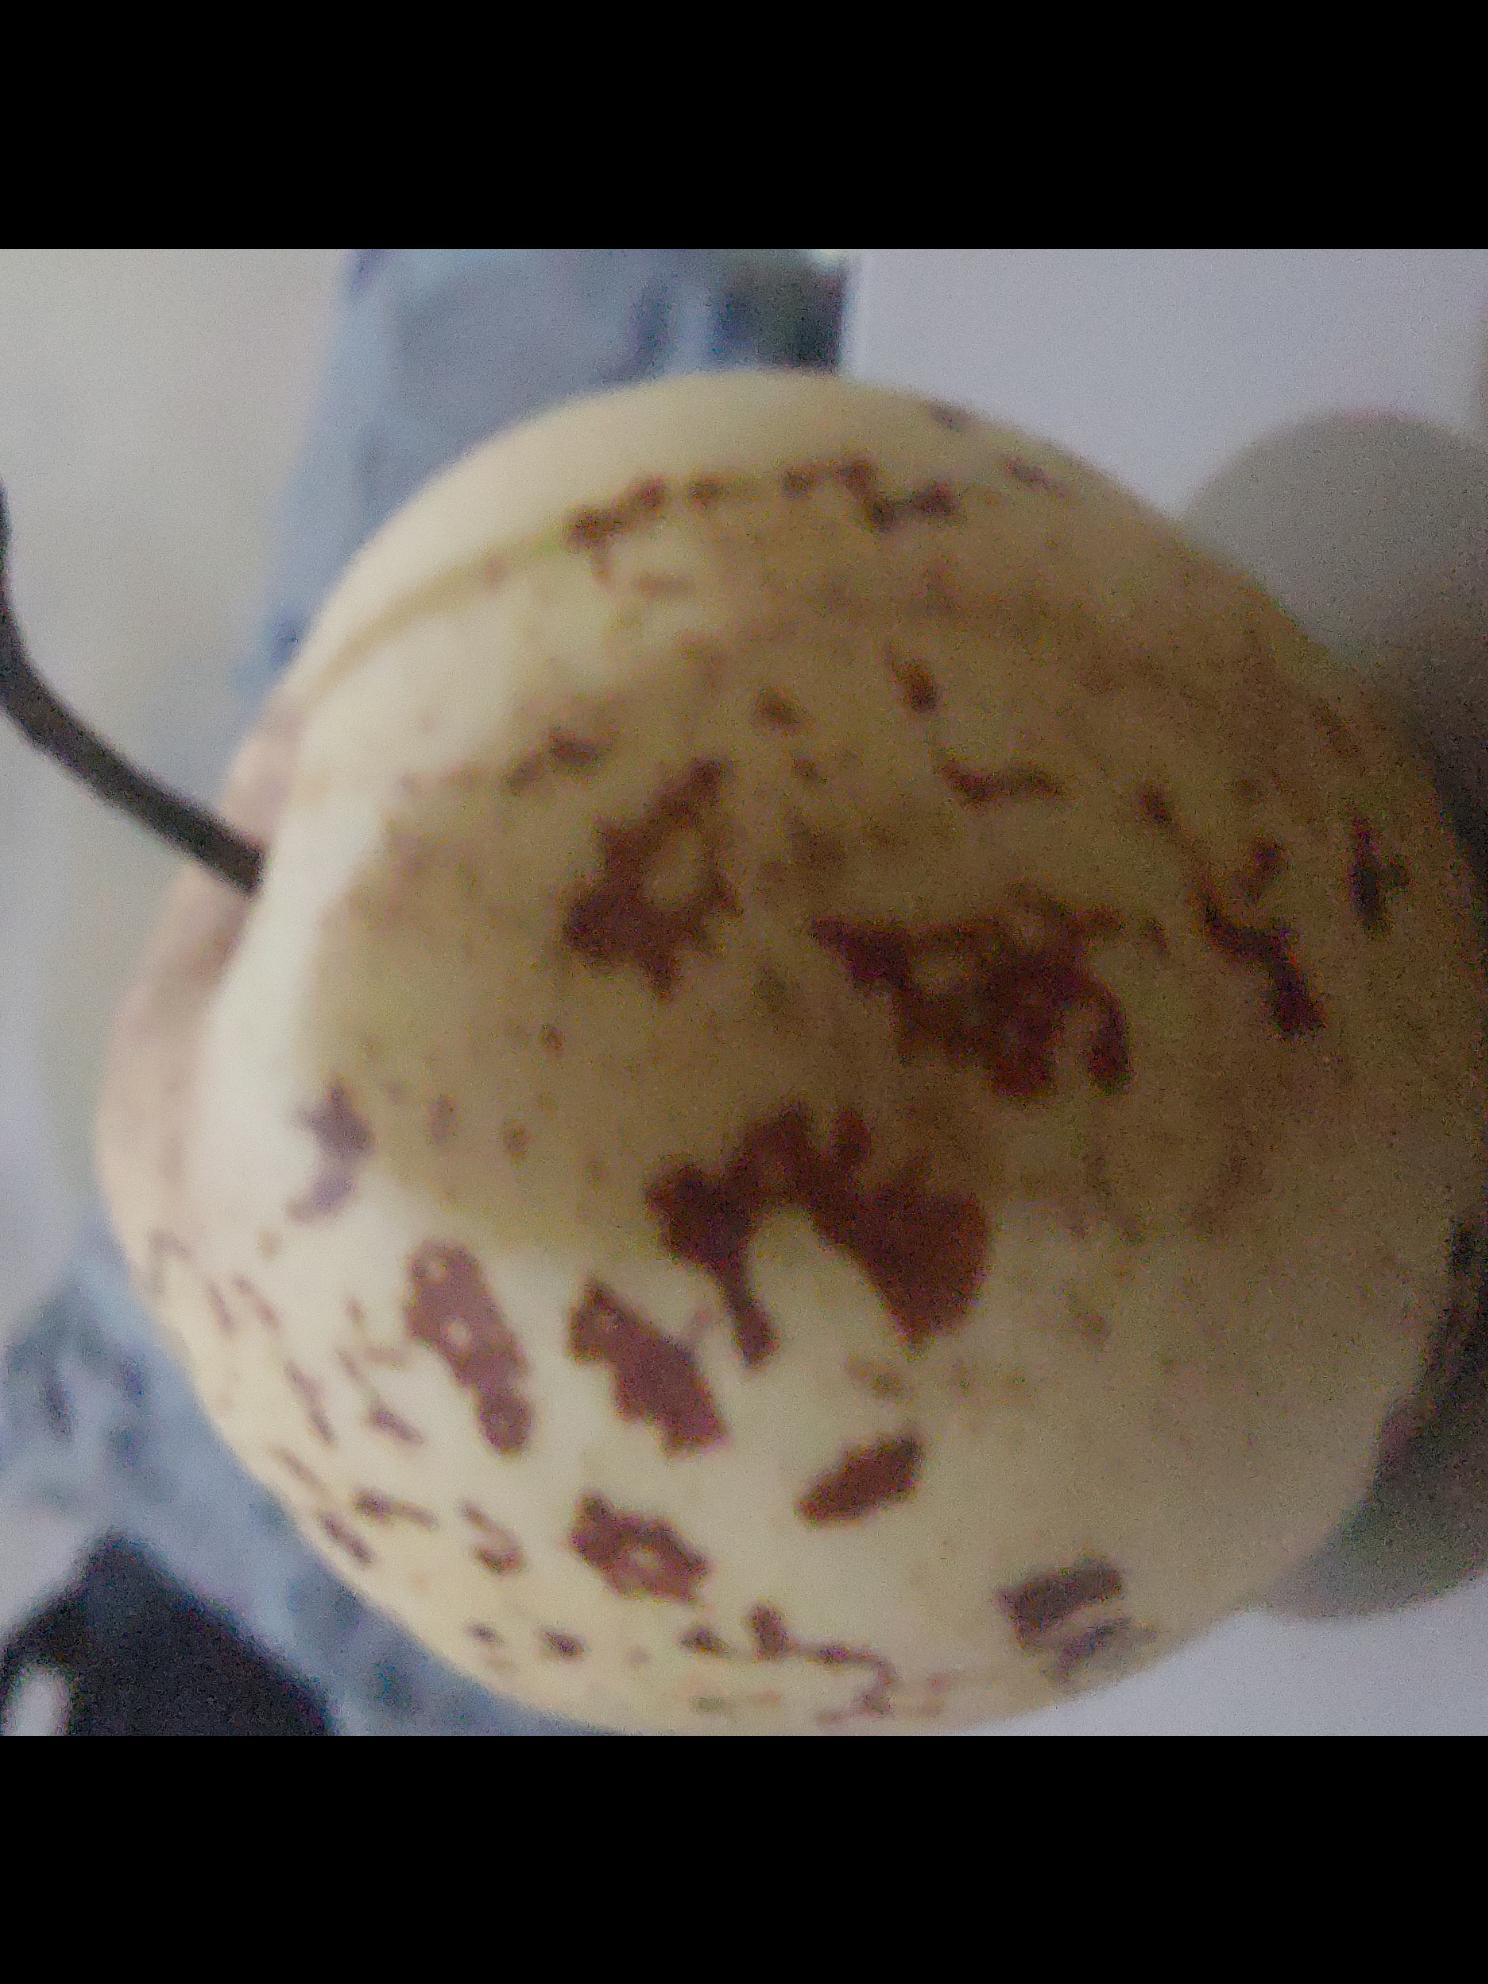Bad Pear: (231, 356, 1486, 1731)
